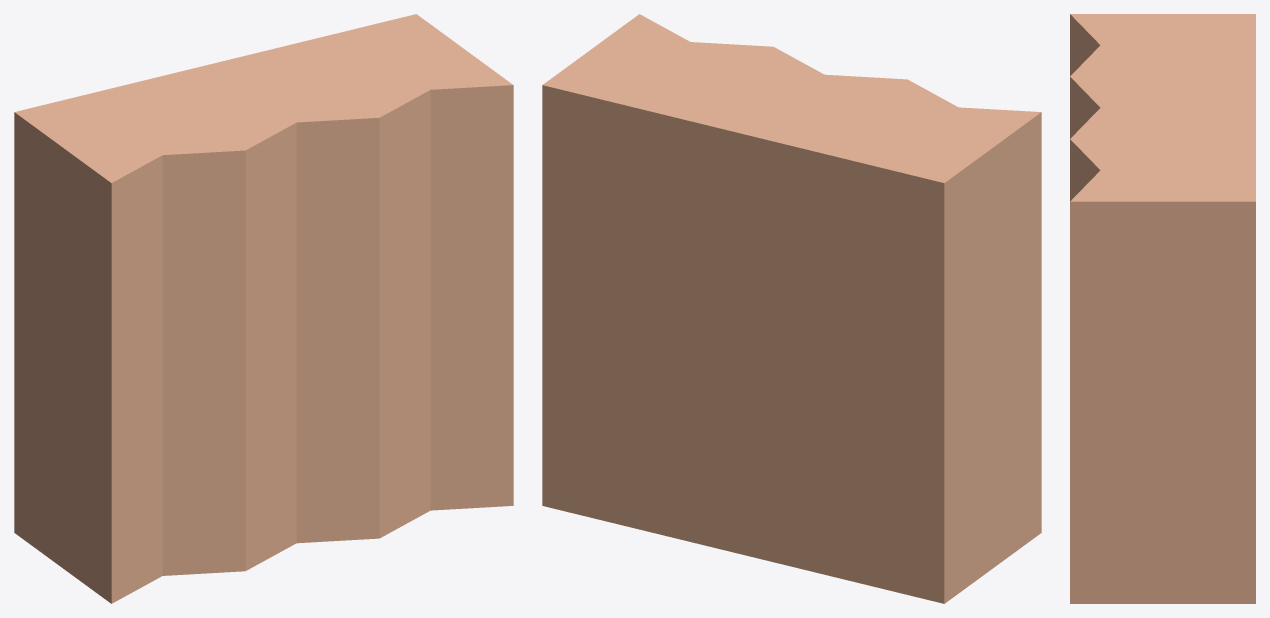
The model's file is cliff_large_rock.gltf.
3 renders of one model, left to right at view 1: azimuth 30°, elevation 25°; view 2: azimuth 150°, elevation 25°; view 3: azimuth 270°, elevation 25°, orthographic. The views are drawn at different scales.
Parts seen in each view (by area): view 1: cliff_large_rock; view 2: cliff_large_rock; view 3: cliff_large_rock.
Boxes of the visible parts, x1=… form: cliff_large_rock: x1=14, y1=14, x2=513, y2=603; cliff_large_rock: x1=542, y1=14, x2=1041, y2=603; cliff_large_rock: x1=1070, y1=14, x2=1255, y2=603.
Bounding box in the file's own units: 1 × 1 × 0.4185.
